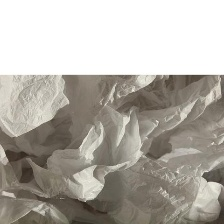tissue: (0, 74, 224, 224), (0, 75, 74, 141)
